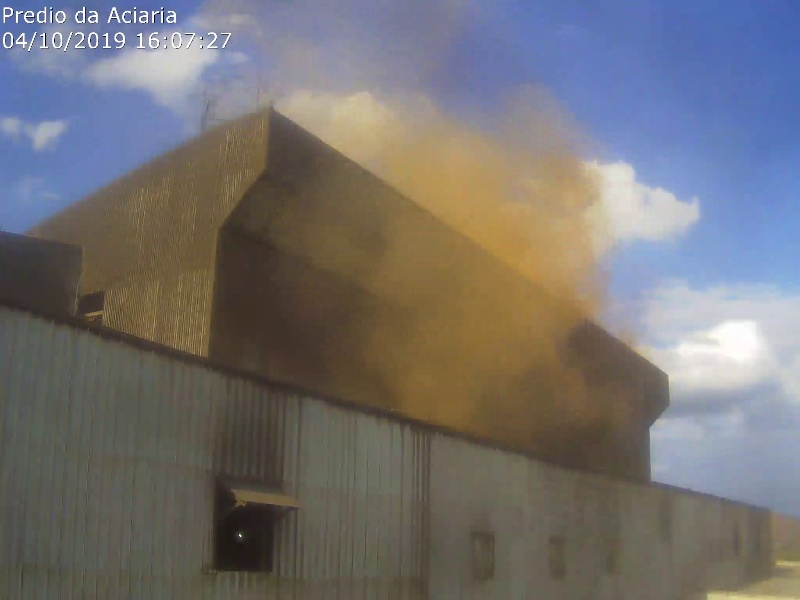bom: (631, 7, 800, 308)
pessimo: (373, 147, 637, 440)
ruim: (401, 8, 585, 150), (223, 4, 392, 119)
